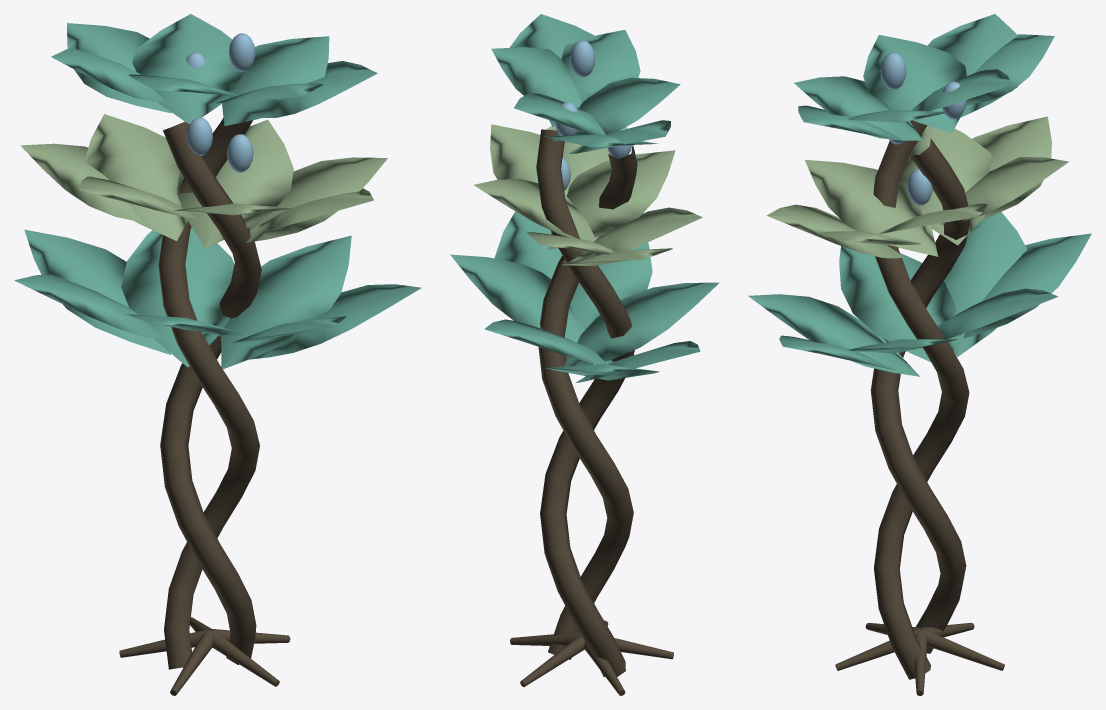
File: spiral-tree.glb
3 renders of one model, left to right at view 1: azimuth 30°, elevation 25°; view 2: azimuth 150°, elevation 25°; view 3: azimuth 270°, elevation 25°, orthographic. The views are drawn at different scales.
Visible parts, largest first — view 1: Vesper / spiral-tree; view 2: Vesper / spiral-tree; view 3: Vesper / spiral-tree.
Part boxes in pixels (x1,y1,x2,y2): Vesper / spiral-tree: (14,14,421,695); Vesper / spiral-tree: (450,14,719,695); Vesper / spiral-tree: (748,14,1091,695).
Bounding box in the file's own units: 4.38 × 8.93 × 4.48.
